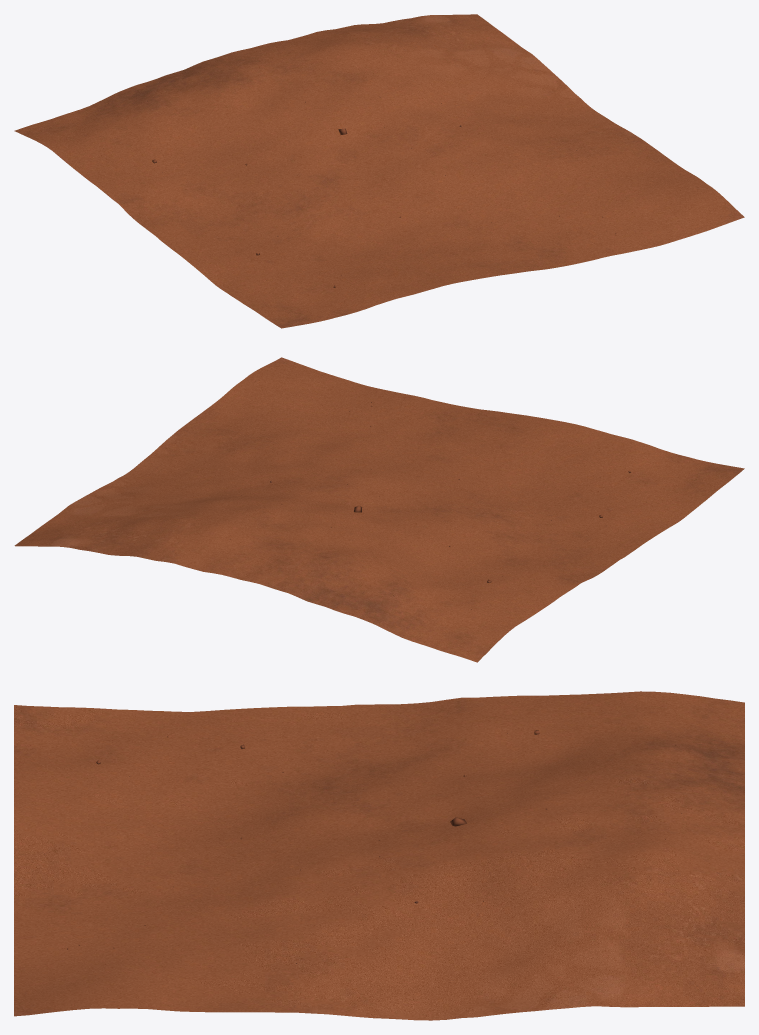
The model's file is mars_surface-0.glb.
The picture shows the model from 3 angles, top to bottom: view 1: azimuth 30°, elevation 25°; view 2: azimuth 150°, elevation 25°; view 3: azimuth 270°, elevation 25°; orthographic projection. The views are drawn at different scales.
Parts seen in each view (by area): view 1: mars_surface; view 2: mars_surface; view 3: mars_surface.
Part boxes in pixels (x1,y1,x2,y2): mars_surface: (14,14,744,328); mars_surface: (14,357,744,662); mars_surface: (14,691,744,1020).
Bounding box in the file's own units: 5 × 0.5 × 5.
Materials: 1 (1 with a texture image).
